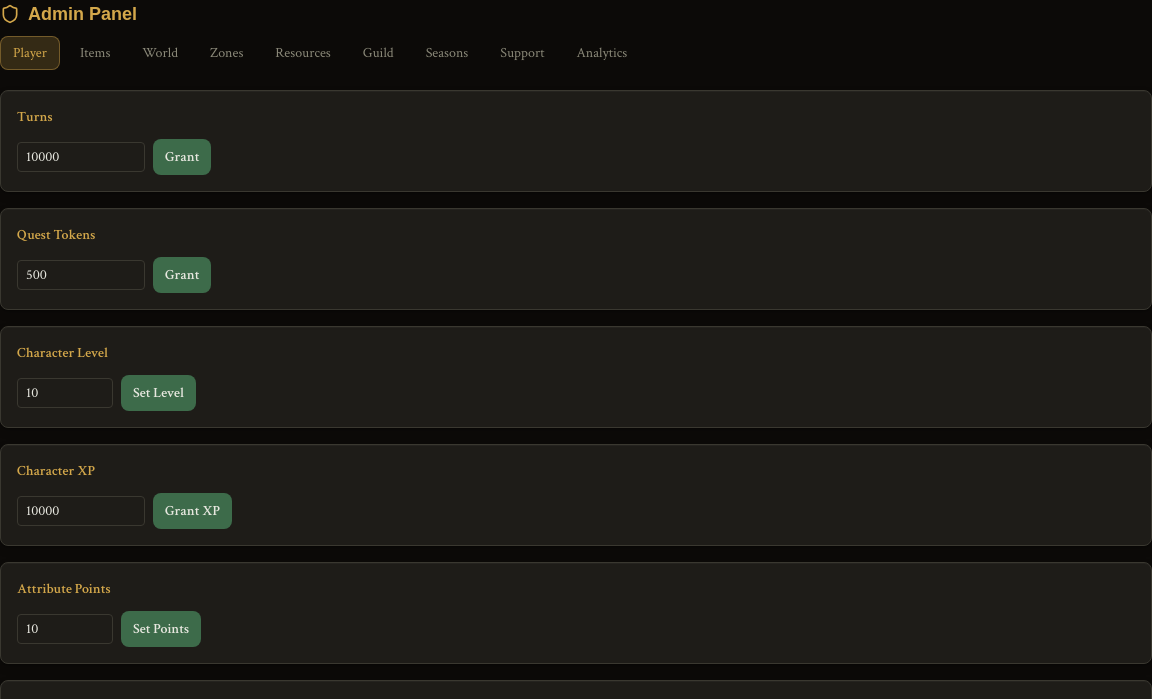
Test: AdminScreen support tab › shows the Codex triage runbook and export command
Click the button "Support".
click(522, 53)  # box [488,36,556,70]
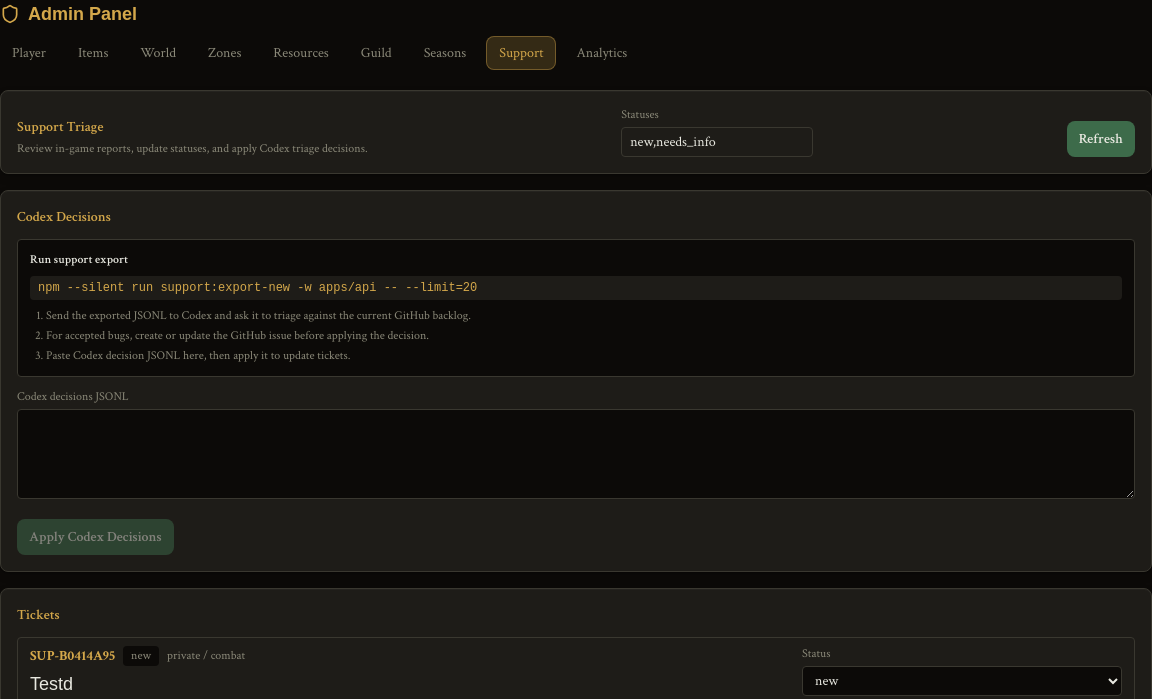
Expected: the heading "Support Triage" is shown, [17,118,103,136]
Expected: the text "Run support export" is shown, [30,252,128,267]
Expected: the text "npm --silent run support:export-new -w apps/api -- --limit=20" is shown, [30,276,1122,300]
